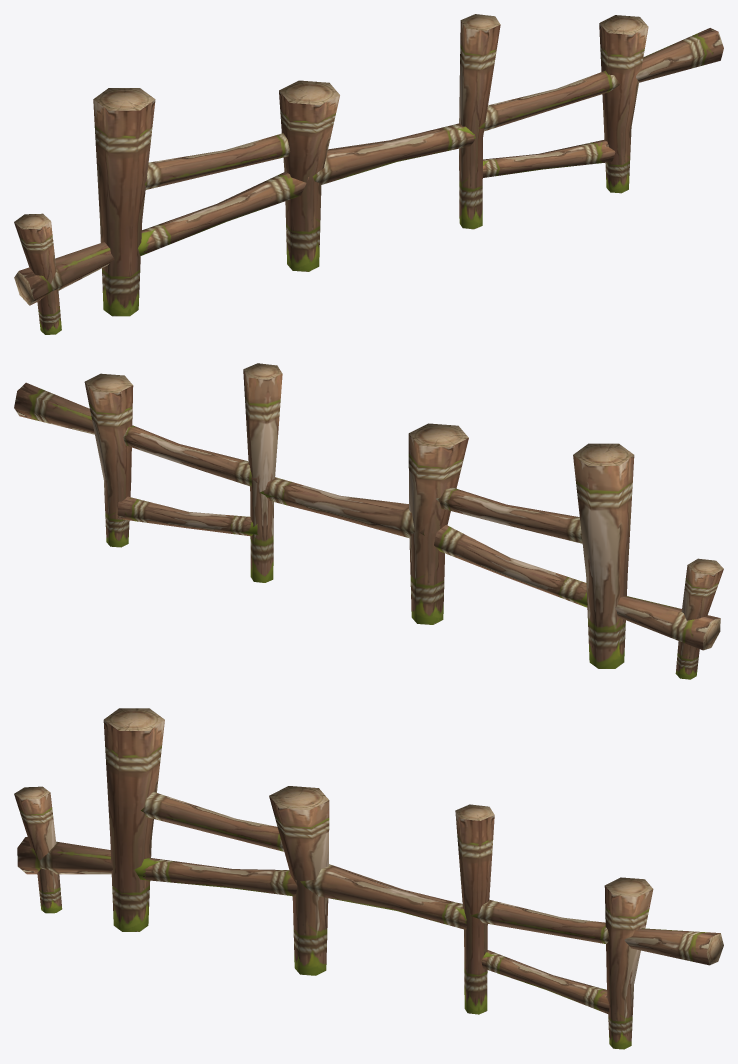
File: Map_08_fence01.FBX
3 renders of one model, top to bottom at view 1: azimuth 30°, elevation 25°; view 2: azimuth 150°, elevation 25°; view 3: azimuth 330°, elevation 25°, orthographic.
Visible parts, largest first — view 1: Map_08_fence01; view 2: Map_08_fence01; view 3: Map_08_fence01.
Boxes of the visible parts, left/top/right/bottom form: Map_08_fence01: left=14, top=14, right=723, bottom=334; Map_08_fence01: left=14, top=363, right=723, bottom=679; Map_08_fence01: left=14, top=708, right=723, bottom=1049.
Size of the model in its own units: 110 by 31.48 by 10.82.
Materials: 1 (1 with a texture image).
